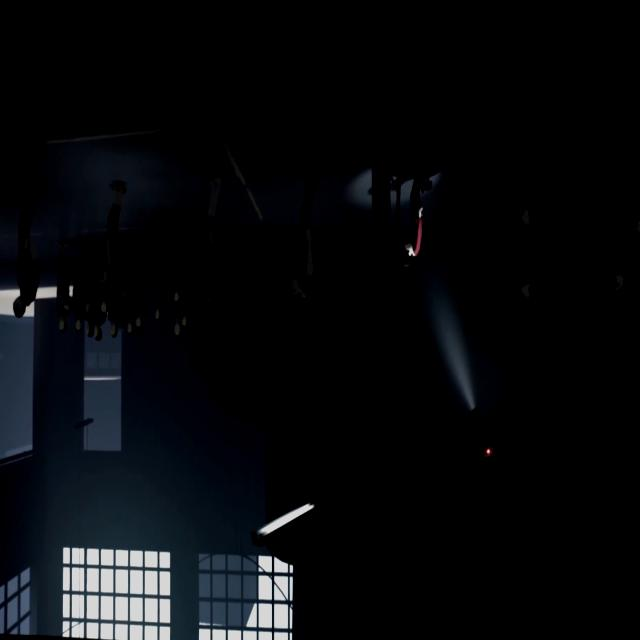boy: (404, 177, 426, 265)
human: (58, 241, 72, 335), (152, 237, 167, 322), (182, 236, 195, 329), (136, 234, 148, 334), (72, 240, 84, 334), (124, 236, 135, 336), (97, 239, 109, 318), (85, 239, 97, 316), (172, 235, 182, 304), (109, 287, 123, 336), (170, 305, 182, 339), (95, 318, 107, 340)
zombie: (290, 171, 318, 304), (610, 179, 640, 296), (15, 188, 41, 316), (510, 170, 535, 302), (102, 182, 128, 289), (200, 174, 220, 310)
